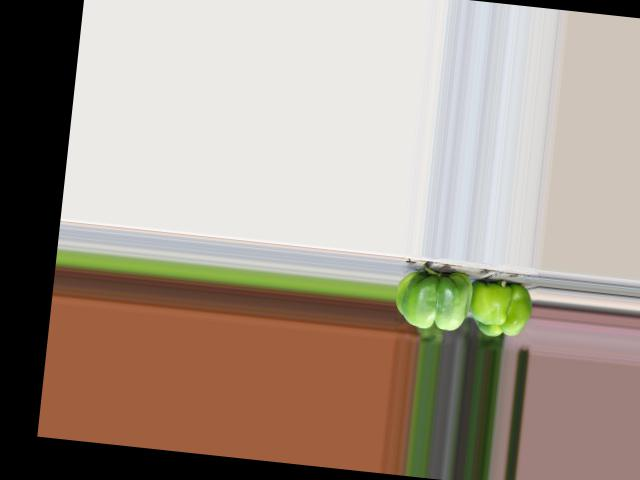bell_pepper: (466, 273, 536, 342)
